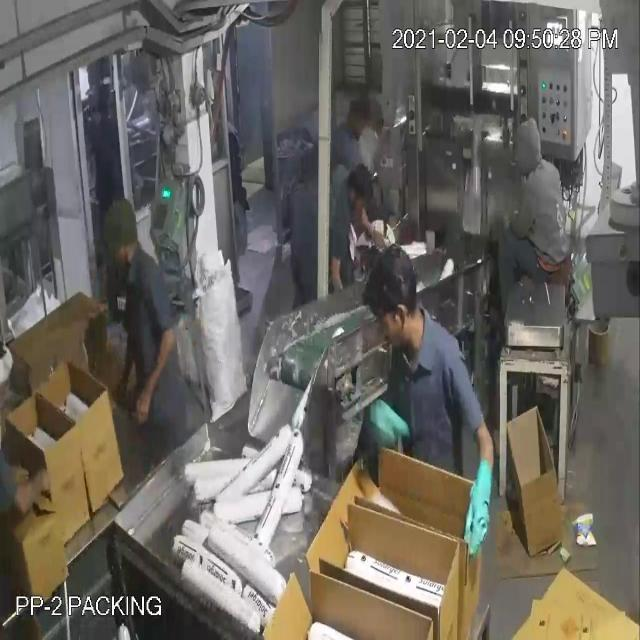No_Gloves: (35, 74, 480, 506)
